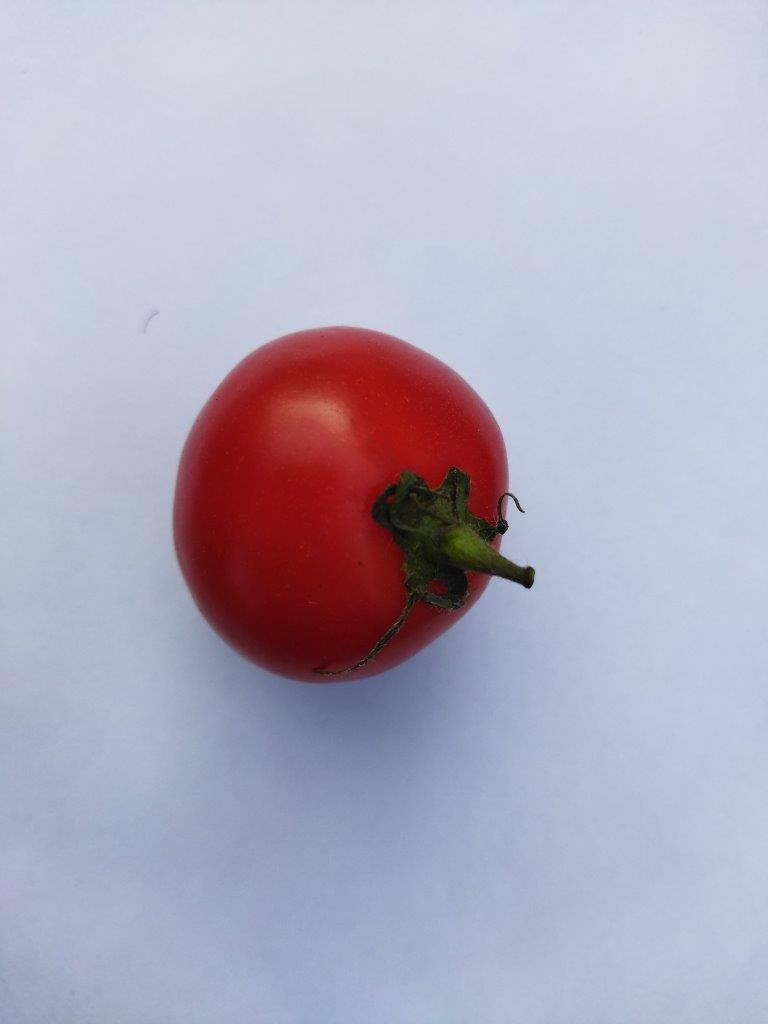tomato: (174, 327, 532, 682)
